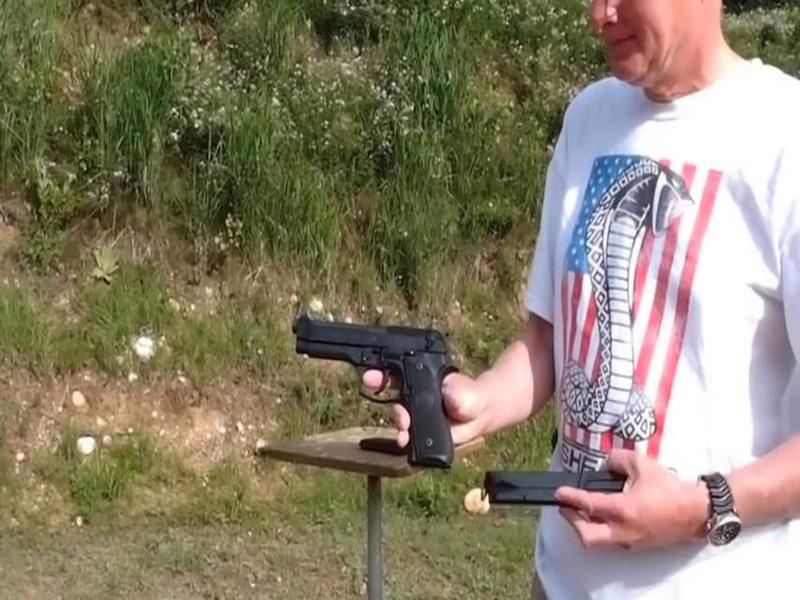Pistola: (289, 308, 467, 477)
